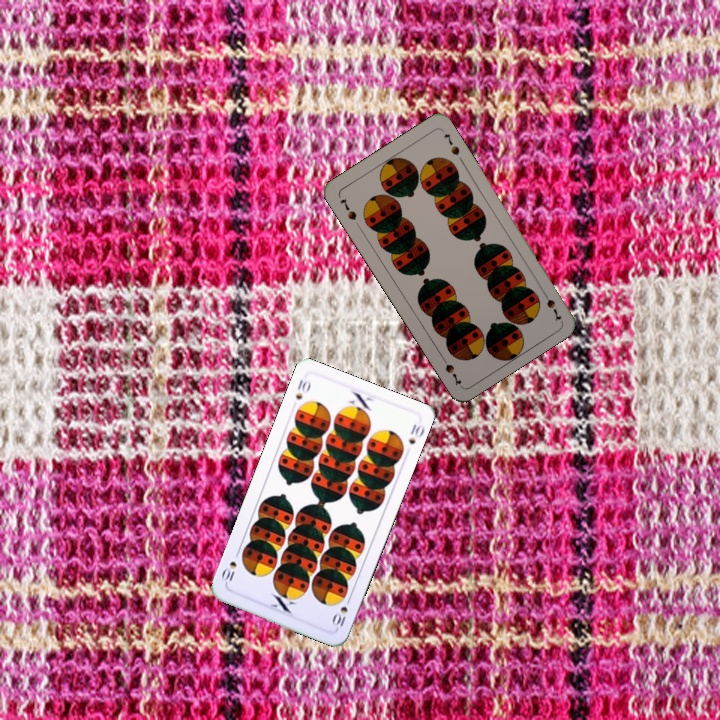S10: (328, 591, 354, 632), (291, 375, 313, 402)
S7: (538, 286, 564, 324), (336, 193, 359, 223)
